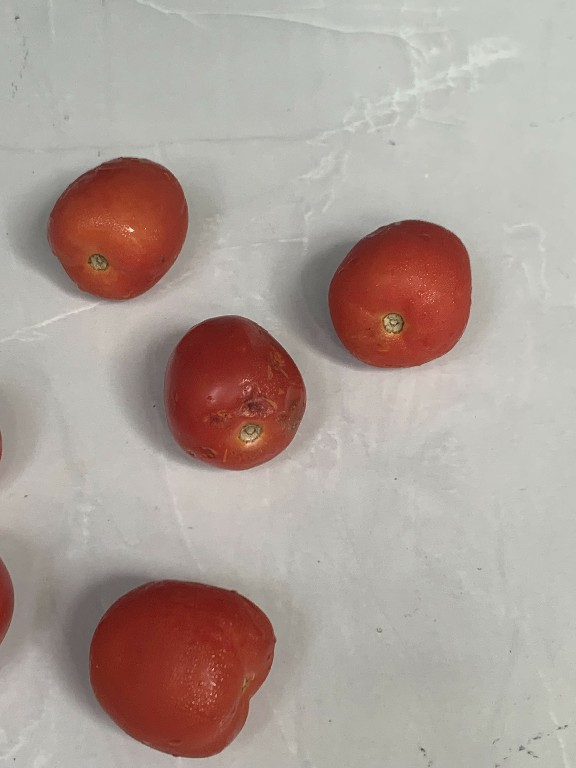NG: (159, 306, 314, 477)
OK: (83, 563, 283, 766), (314, 210, 484, 375), (42, 142, 196, 306)
